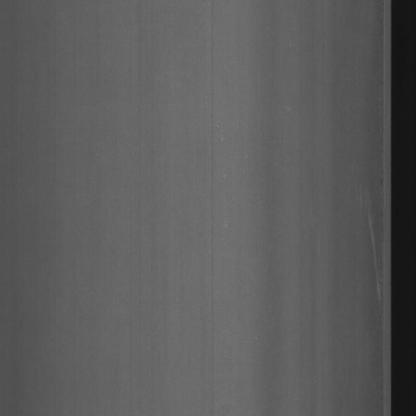silk_spot: (366, 180, 389, 324)
